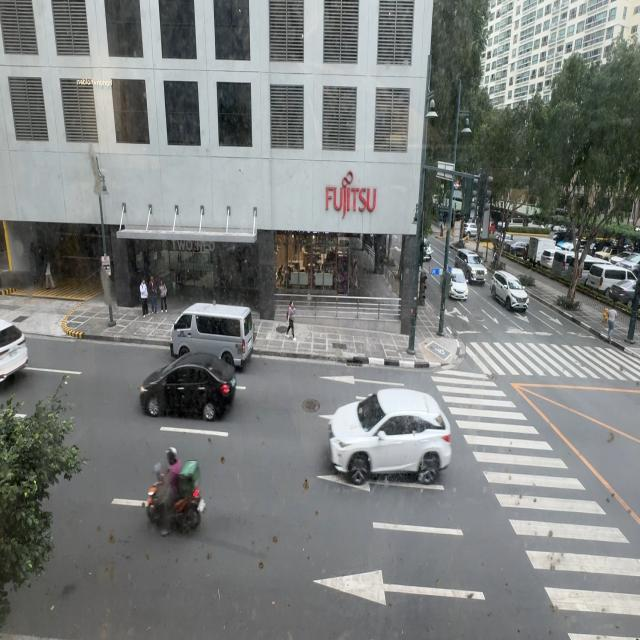pedestrain: (285, 302, 299, 339)
waiting: (606, 297, 618, 342)
